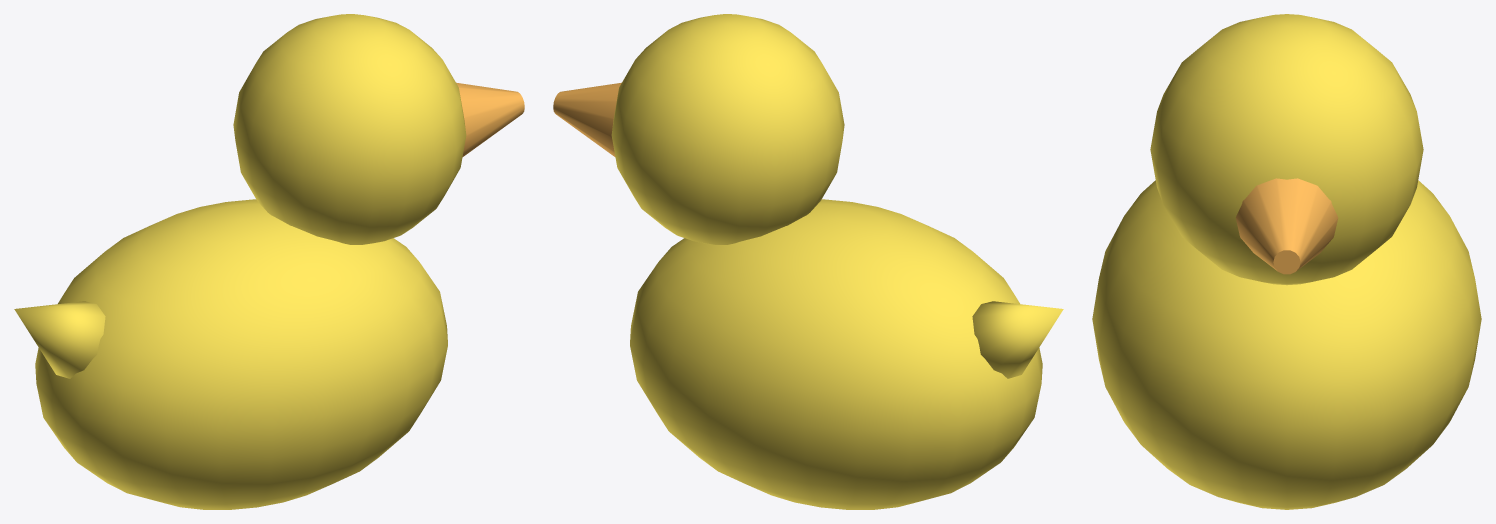
Rendered from Duck.fbx.
3 views of the same model, side by side, from view 1: azimuth 30°, elevation 25°; view 2: azimuth 150°, elevation 25°; view 3: azimuth 270°, elevation 25° (orthographic). The views are drawn at different scales.
Parts seen in each view (by area): view 1: Body.003, Trim.003; view 2: Body.003, Trim.003; view 3: Body.003, Trim.003.
Part boxes in pixels (x1,y1,x2,y2): Body.003: [14, 14, 466, 509]; Trim.003: [456, 82, 524, 156]; Body.003: [611, 14, 1063, 509]; Trim.003: [553, 82, 621, 156]; Body.003: [1092, 14, 1481, 509]; Trim.003: [1235, 178, 1338, 274].
Bounding box in the file's own units: 1.49 × 1.24 × 0.855.
